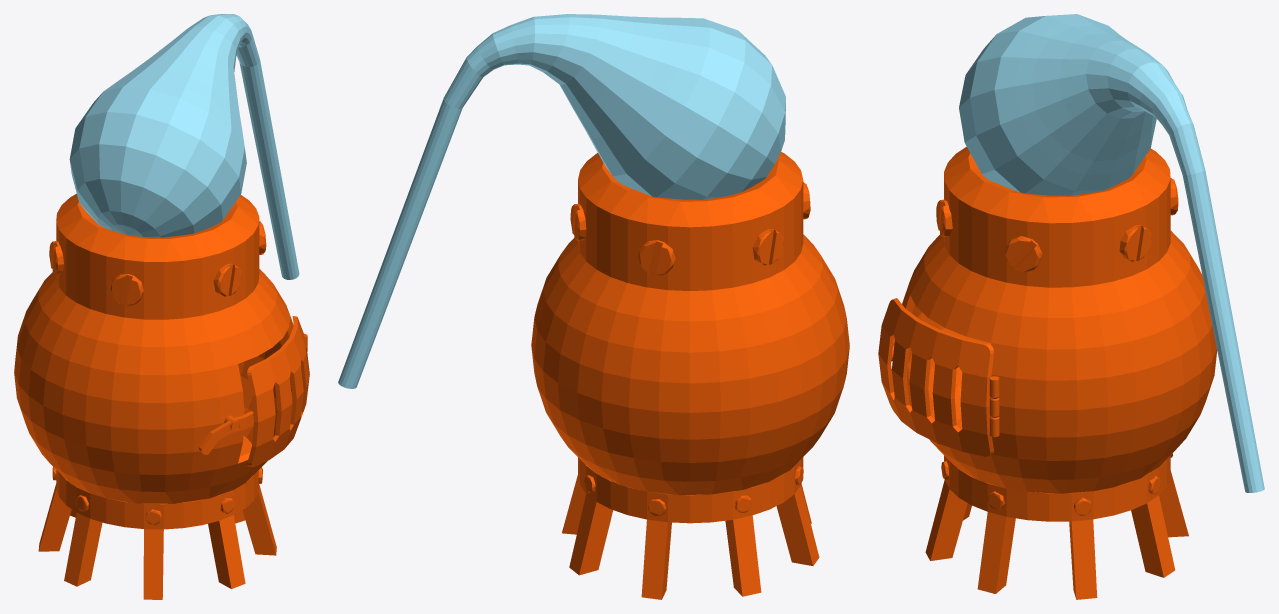
File: Forge_1.fbx
The picture shows the model from 3 angles, left to right: view 1: azimuth 30°, elevation 25°; view 2: azimuth 150°, elevation 25°; view 3: azimuth 270°, elevation 25°; orthographic projection. The views are drawn at different scales.
Parts seen in each view (by area): view 1: Forge, Bottle_Lab, Dors, DoorHandle; view 2: Forge, Bottle_Lab; view 3: Forge, Bottle_Lab, Dors.
Boxes of the visible parts, bbox=[...] form: Forge: bbox=[14, 194, 293, 599]; Bottle_Lab: bbox=[69, 14, 299, 279]; Dors: bbox=[247, 316, 309, 466]; DoorHandle: bbox=[199, 411, 253, 454]; Forge: bbox=[531, 152, 849, 599]; Bottle_Lab: bbox=[338, 14, 785, 388]; Forge: bbox=[902, 146, 1217, 599]; Bottle_Lab: bbox=[959, 14, 1264, 492]; Dors: bbox=[878, 298, 999, 456].
Bounding box in the file's own units: 91.28 × 119 × 77.48.
